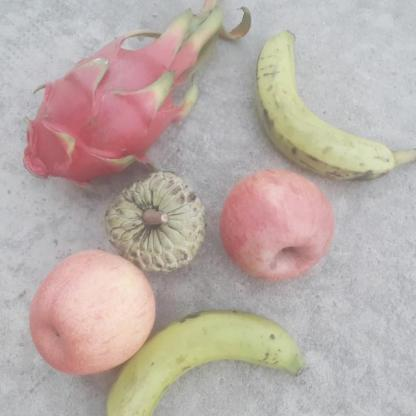annona: (106, 166, 208, 279)
apple: (26, 250, 155, 375), (218, 167, 340, 284)
banana: (104, 305, 308, 416), (254, 25, 397, 180)
pitaya: (20, 44, 173, 182)
